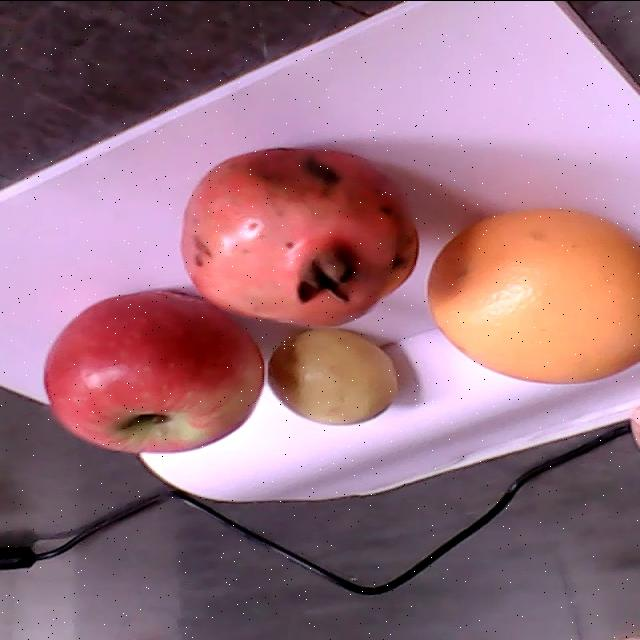apple: (44, 285, 263, 454)
lemon: (264, 326, 394, 424)
orange: (425, 206, 639, 381)
pomegranate: (179, 145, 418, 329)
